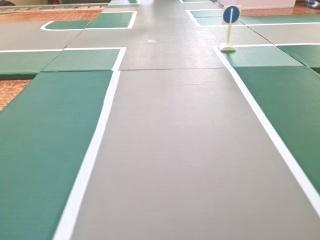straight: (219, 3, 244, 27)
